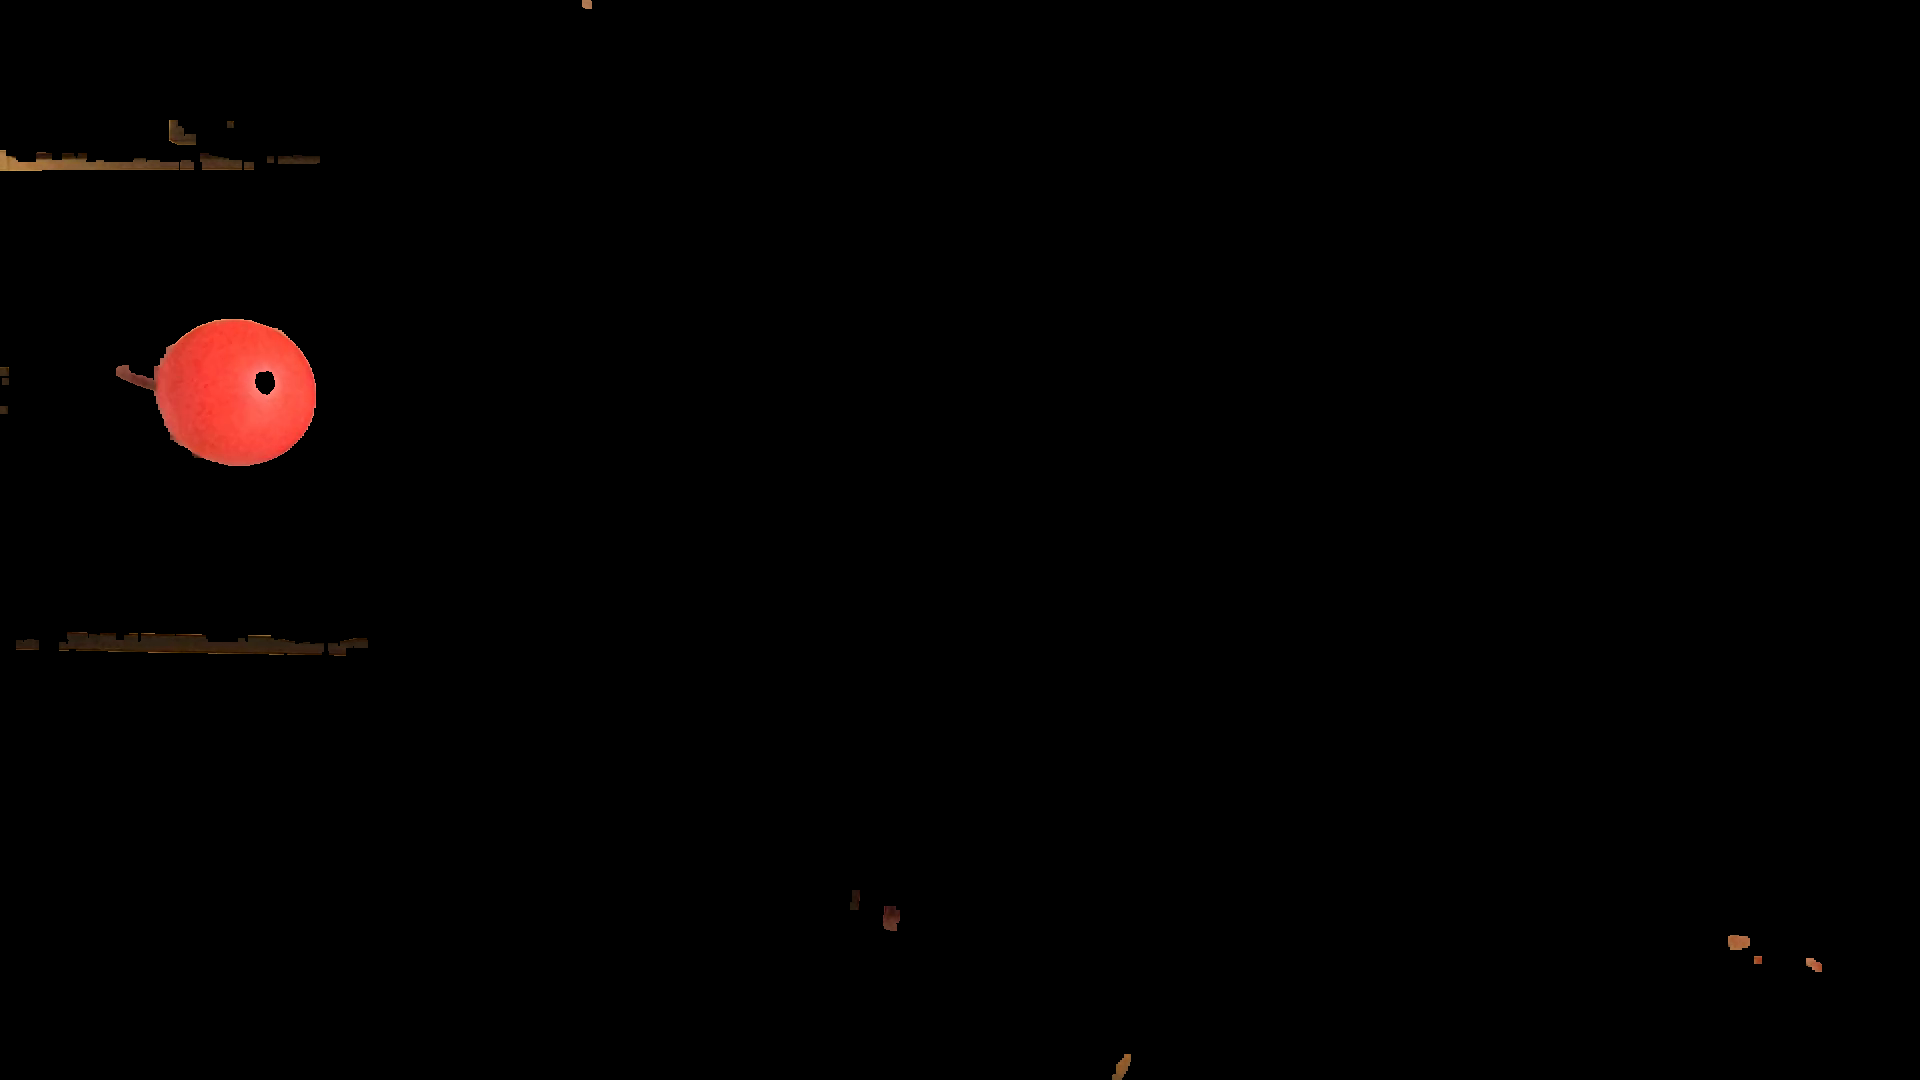Ball: (161, 316, 315, 465)
